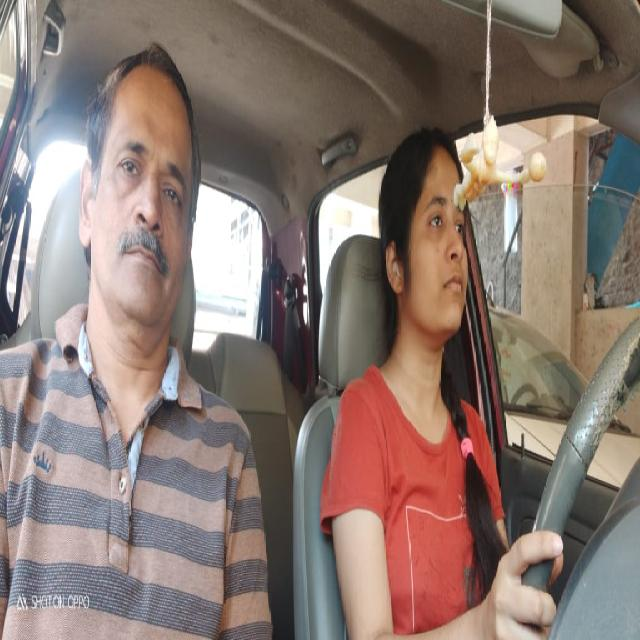person: (78, 35, 205, 370), (374, 123, 476, 385)
